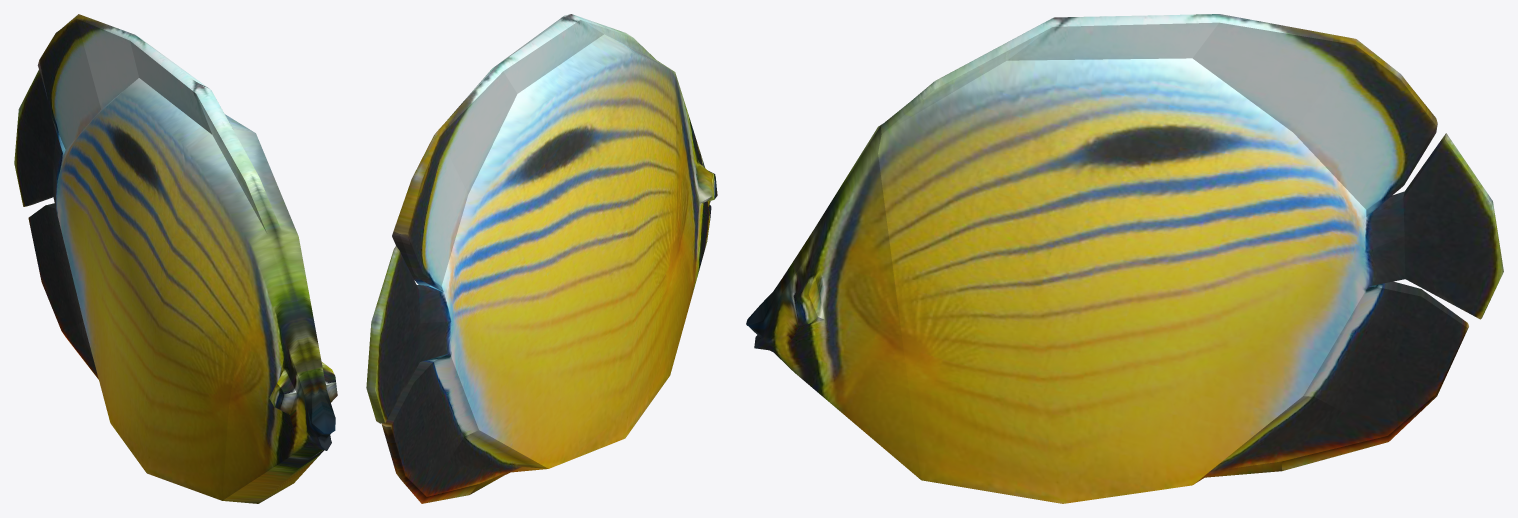
File: mostlyyellow.fbx
3 renders of one model, left to right at view 1: azimuth 30°, elevation 25°; view 2: azimuth 150°, elevation 25°; view 3: azimuth 270°, elevation 25°, orthographic. The views are drawn at different scales.
Parts seen in each view (by area): view 1: tropicalFishMaya2008:mostlyYellow1; view 2: tropicalFishMaya2008:mostlyYellow1; view 3: tropicalFishMaya2008:mostlyYellow1.
Boxes of the visible parts, x1,y1,x2,y2 form: tropicalFishMaya2008:mostlyYellow1: (14,14,337,503); tropicalFishMaya2008:mostlyYellow1: (366,14,717,503); tropicalFishMaya2008:mostlyYellow1: (746,14,1503,503).
Bounding box in the file's own units: 4.31 × 15.18 × 22.01.
